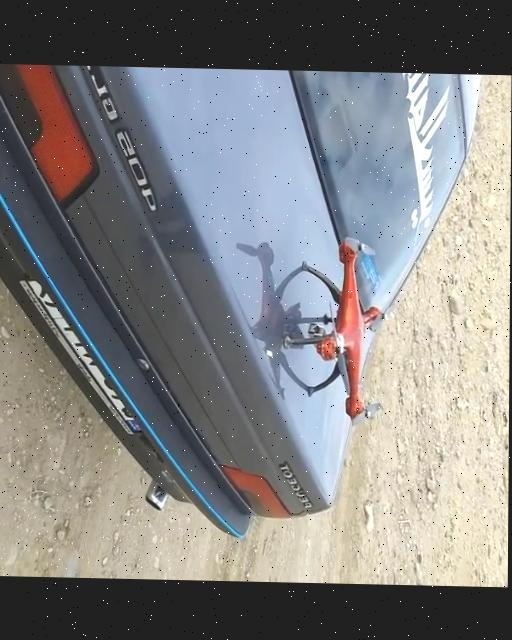drone: (283, 234, 393, 425)
